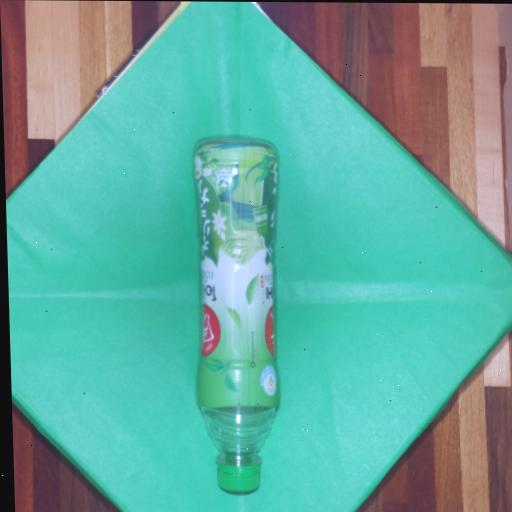bottle: (179, 123, 294, 508)
